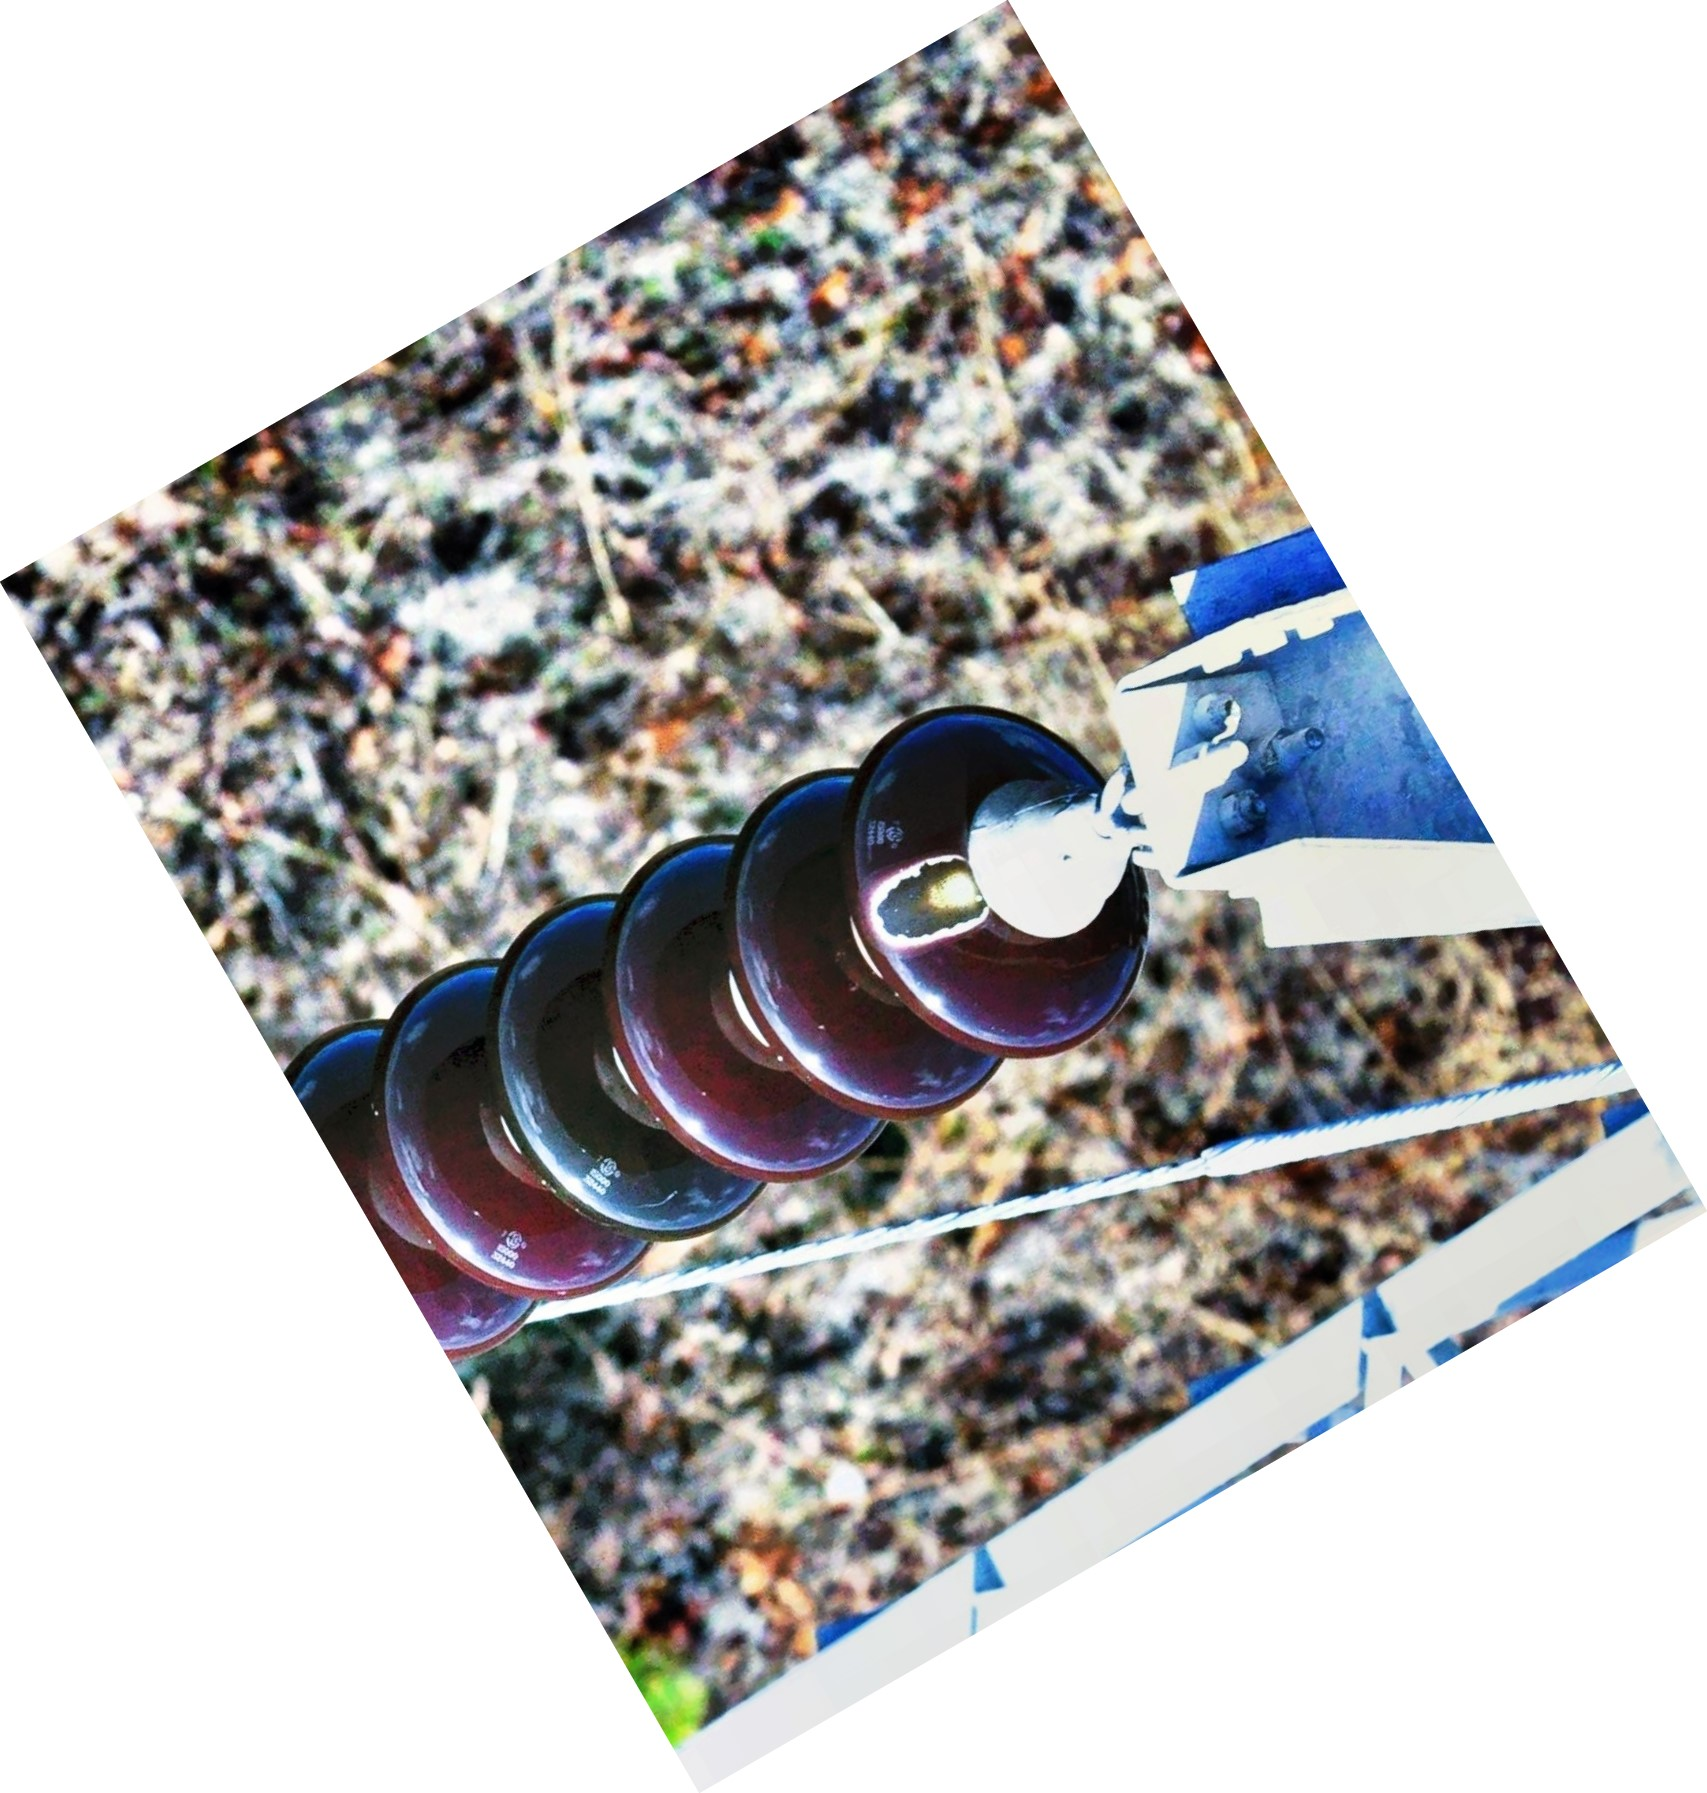Insulator flashover: (833, 695, 1156, 1076)
